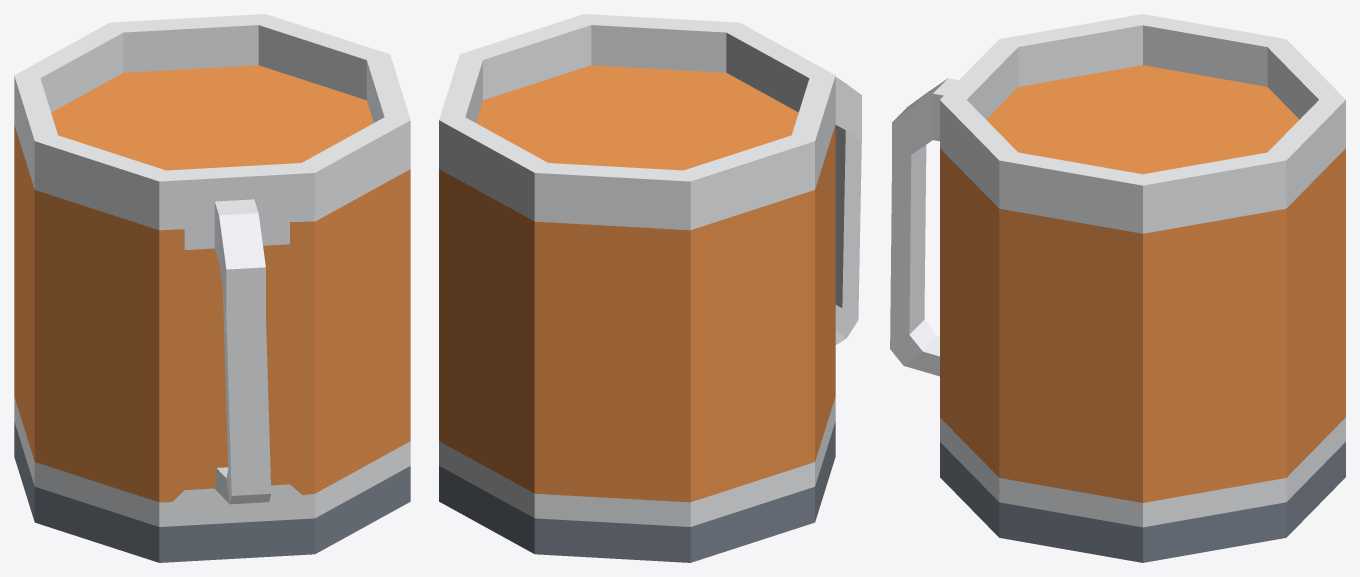
File: BeerFix.fbx
3 views of the same model, side by side, from view 1: azimuth 30°, elevation 25°; view 2: azimuth 150°, elevation 25°; view 3: azimuth 270°, elevation 25° (orthographic).
Parts seen in each view (by area): view 1: Cube.001; view 2: Cube.001; view 3: Cube.001.
Part boxes in pixels (left/top/right/bottom): Cube.001: left=14, top=14, right=410, bottom=562; Cube.001: left=439, top=14, right=861, bottom=562; Cube.001: left=890, top=14, right=1345, bottom=562.
Size of the model in its own units: 166 by 170 by 186.
